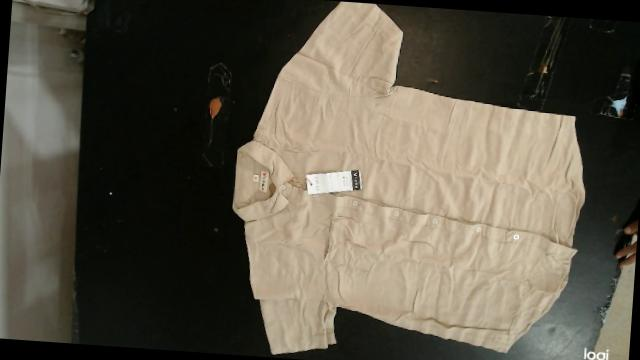new-garment: (232, 1, 585, 353)
